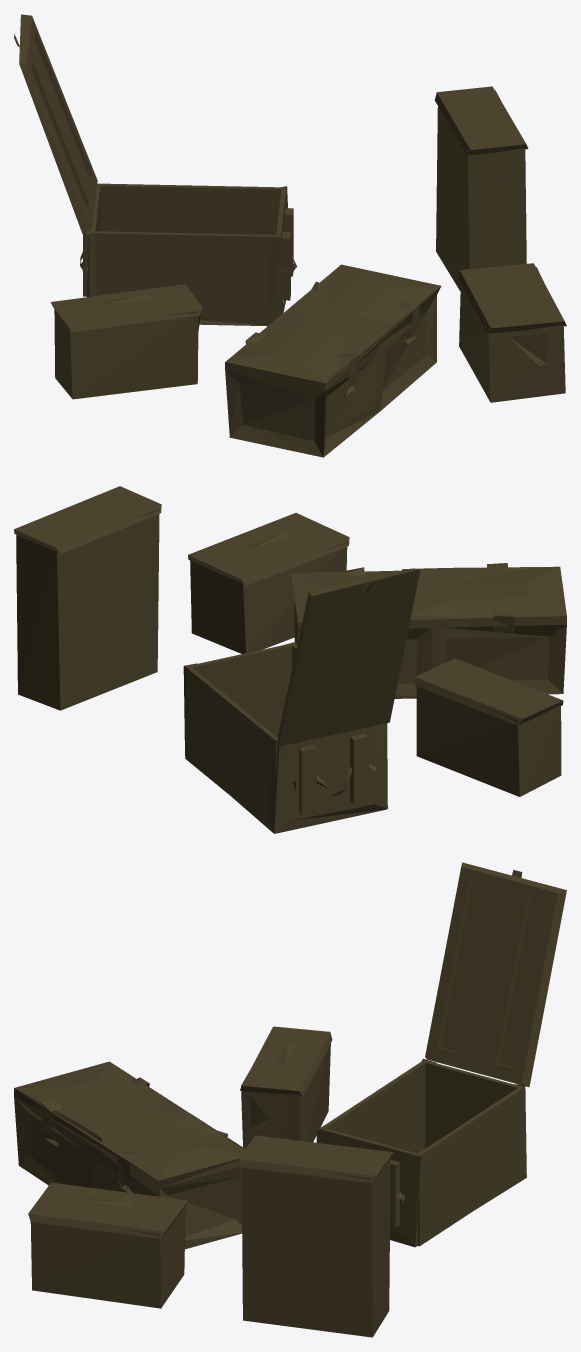
File: ammo-stack.lod1.glb
3 views of the same model, one above another, from view 1: azimuth 30°, elevation 25°; view 2: azimuth 150°, elevation 25°; view 3: azimuth 270°, elevation 25° (orthographic). The views are drawn at different scales.
Parts seen in each view (by area): view 1: Object_4; view 2: Object_4; view 3: Object_4.
Part boxes in pixels (x1,y1,x2,y2): Object_4: [14, 14, 566, 457]; Object_4: [14, 486, 566, 833]; Object_4: [14, 862, 566, 1337].
Size of the model in its own units: 4.9 by 2.57 by 4.83.
